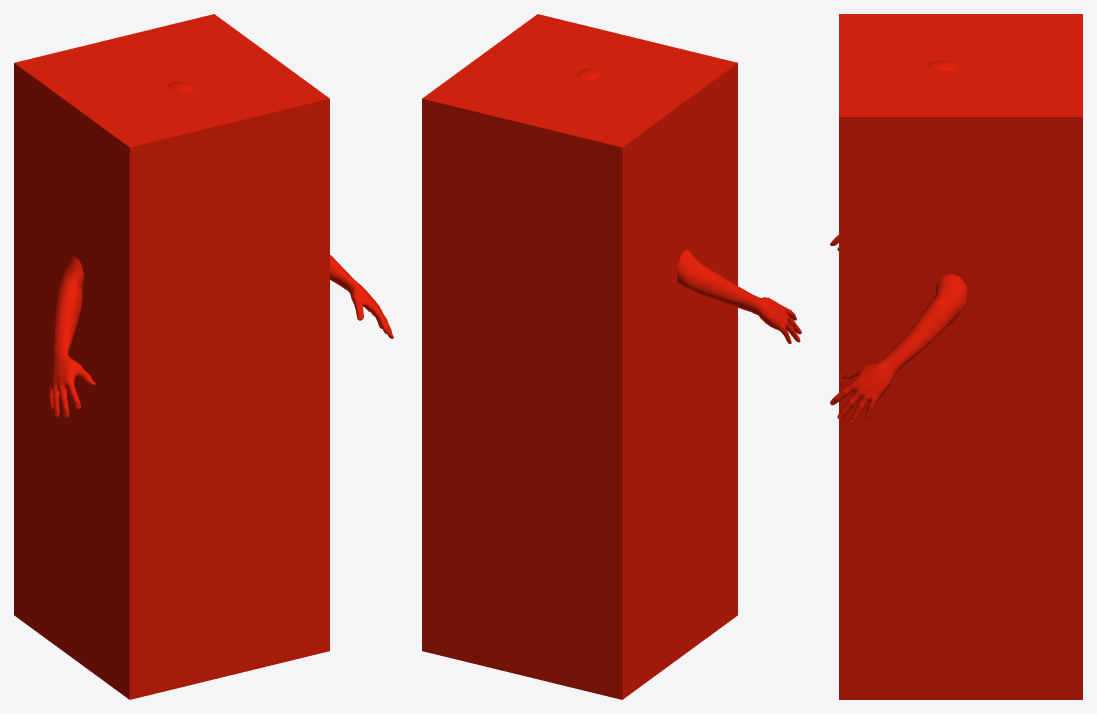
File: Player_Human.glb
3 renders of one model, left to right at view 1: azimuth 30°, elevation 25°; view 2: azimuth 150°, elevation 25°; view 3: azimuth 270°, elevation 25°, orthographic. The views are drawn at different scales.
Visible parts, largest first — view 1: Cube, scalereferenceMesh; view 2: Cube, scalereferenceMesh; view 3: Cube, scalereferenceMesh.
Boxes of the visible parts, x1=… form: Cube: x1=14, y1=14, x2=329, y2=699; scalereferenceMesh: x1=48, y1=81, x2=393, y2=417; Cube: x1=422, y1=14, x2=737, y2=699; scalereferenceMesh: x1=575, y1=68, x2=801, y2=343; Cube: x1=839, y1=14, x2=1082, y2=699; scalereferenceMesh: x1=830, y1=60, x2=967, y2=424.
Size of the model in its own units: 1.16 by 1.84 by 0.7147.
